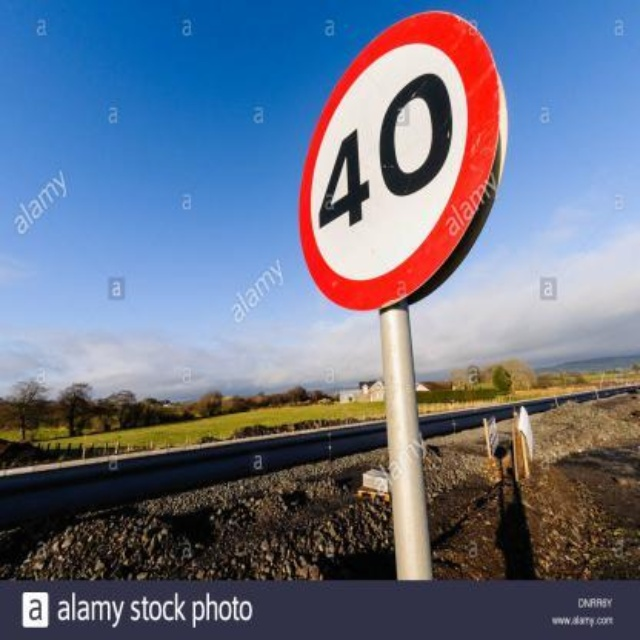Tốc độ tối đa cho phép 10km/h: (303, 18, 488, 293)
